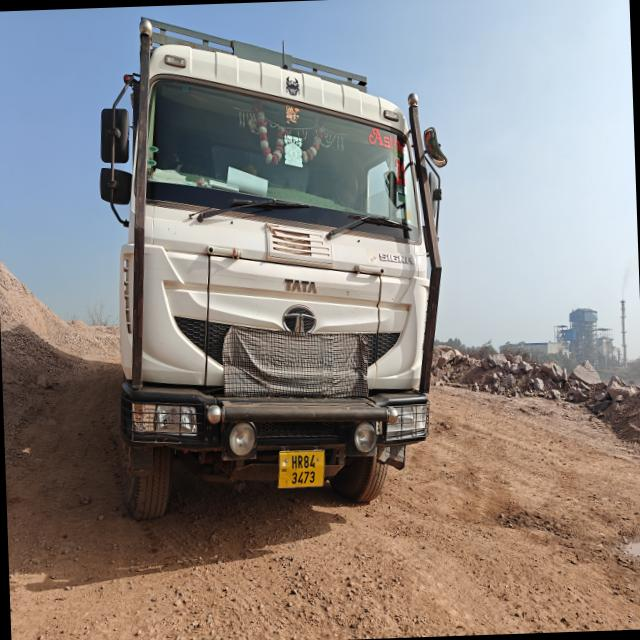license_plate: (279, 450, 325, 488)
